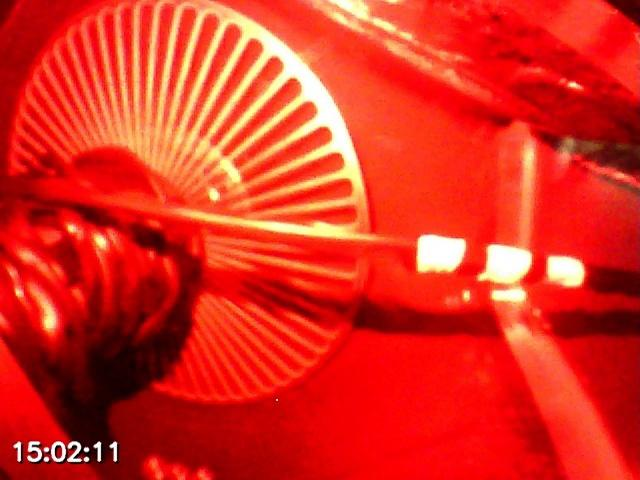white-dots: (415, 233, 585, 288)
